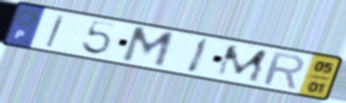5: (79, 19, 120, 56)
I: (184, 37, 213, 76), (43, 13, 68, 50)
M: (118, 25, 178, 70), (213, 44, 271, 85)
R: (260, 50, 306, 92)
